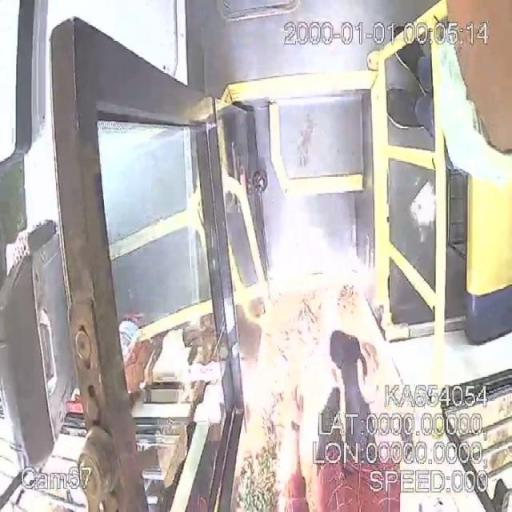persona: (312, 328, 401, 511)
